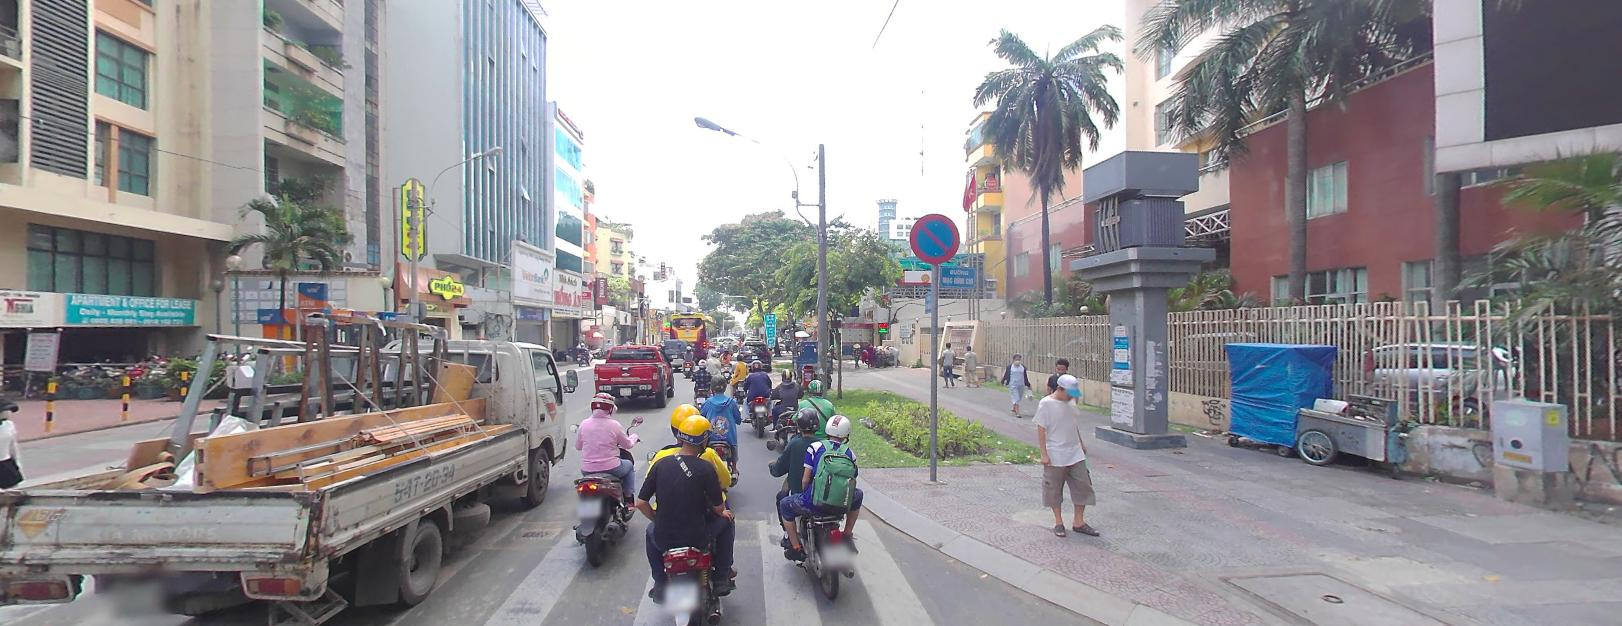Cam dung va do: (908, 209, 962, 264)
